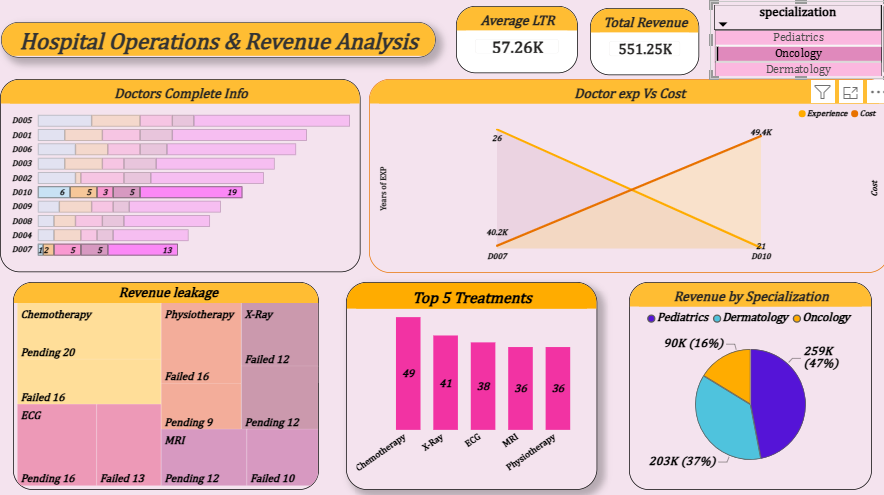

The dashboard page shown, as its layout file describes it:
{"tool":"powerbi","page":{"name":"Page 1","canvas":[1280,720],"ordinal":0},"visuals":[{"type":"textbox","title":"Hospital Operations & Revenue Analysis","box":[6.7,40.1,620.6,50.8],"z":0},{"type":"cardVisual","title":"Average LTR","fields":{"Data":["Avg(patient_revenue.patient_ltr)"]},"box":[657.1,17.1,174.3,95.7],"z":1000},{"type":"cardVisual","title":"Total Revenue","fields":{"Data":["Sum(Total revenue generated.total_revenue)"]},"box":[848,20.1,156.5,96.3],"z":2000},{"type":"barChart","title":"Doctors Complete Info","fields":{"Category":["doctor_appointments.doctor_id"],"Y":["Sum(doctor_appointments.total_appointments)","Sum(doctor_appointments.completed_counts)","Sum(doctor_appointments.cancelled_counts)","Sum(doctor_appointments.no_show_counts)","Sum(doctor_appointments.scheduled_counts)"]},"box":[5.4,121.7,514.9,275.5],"z":3000},{"type":"clusteredColumnChart","title":"Top 5 Treatments","fields":{"Category":["top_5_treatments.treatment_type"],"Y":["Sum(top_5_treatments.count_of_treatment)"]},"box":[500,411.4,358.6,297.1],"z":4000},{"type":"treemap","title":"Revenue leakage","fields":{"Group":["no_tret.treatment_type"],"Details":["no_tret.payment_status"],"Values":["CountNonNull(no_tret.payment_method)"]},"box":[24.3,411.4,437.1,297.1],"z":5000},{"type":"areaChart","title":"Doctor exp Vs Cost","fields":{"Y":["Sum(doc_exp_vs_cost.years_experience)"],"Category":["doc_exp_vs_cost.doctor_id"],"Y2":["Sum(doc_exp_vs_cost.total_revenue)"]},"box":[532.9,121.4,742.9,277.1],"z":6000},{"type":"pieChart","title":" Revenue by Specialization","fields":{"Category":["Revenue by specialization.specialization"],"Y":["Sum(Revenue by specialization.Revenue)"]},"box":[904.3,411.4,347.1,297.1],"z":7000},{"type":"tableEx","fields":{"Values":["doc_exp_vs_cost.specialization"]},"box":[1020.3,9.9,259.7,112.1],"z":8000}]}

Visuals, with their boxes in screenshot pixels (x1, y1, x2, y2), scaled from the page's 1280x720 canvas onto the 884x495 screenshot:
"Hospital Operations & Revenue Analysis" textbox: {"left": 5, "top": 28, "right": 433, "bottom": 62}
"Average LTR" cardVisual: {"left": 454, "top": 12, "right": 574, "bottom": 78}
"Total Revenue" cardVisual: {"left": 586, "top": 14, "right": 694, "bottom": 80}
"Doctors Complete Info" barChart: {"left": 4, "top": 84, "right": 359, "bottom": 273}
"Top 5 Treatments" clusteredColumnChart: {"left": 345, "top": 283, "right": 593, "bottom": 487}
"Revenue leakage" treemap: {"left": 17, "top": 283, "right": 319, "bottom": 487}
"Doctor exp Vs Cost" areaChart: {"left": 368, "top": 83, "right": 881, "bottom": 274}
" Revenue by Specialization" pieChart: {"left": 625, "top": 283, "right": 864, "bottom": 487}
tableEx - doc_exp_vs_cost.specialization: {"left": 705, "top": 7, "right": 883, "bottom": 84}
